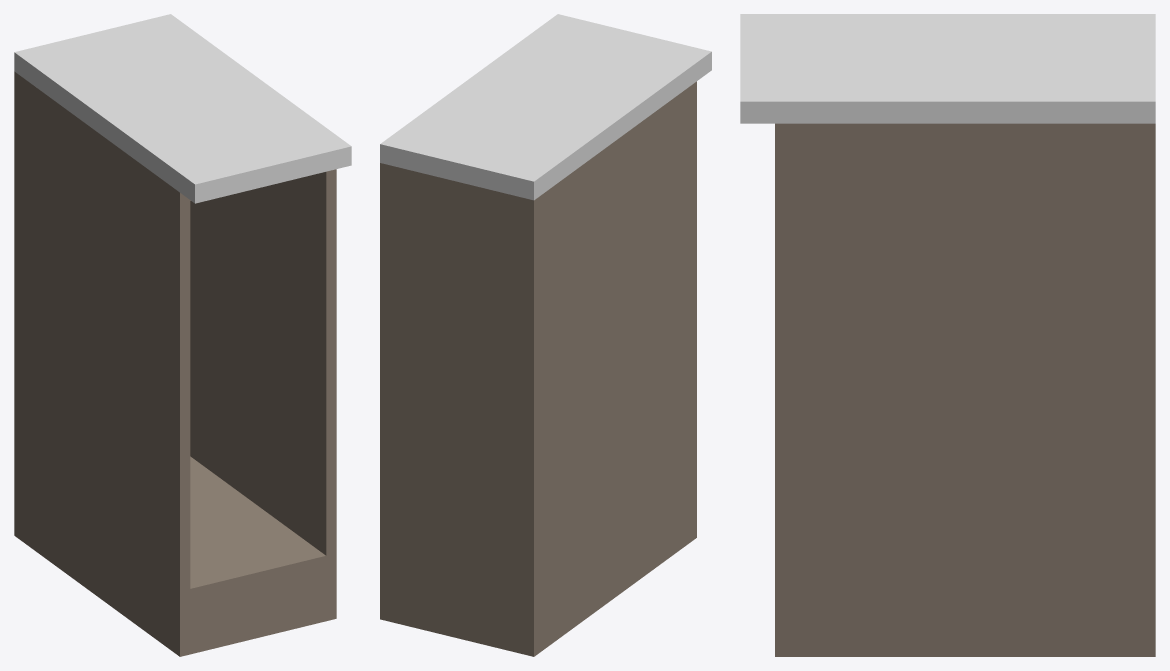
The model's file is Kitchen1_C5_03.fbx.
The picture shows the model from 3 angles, left to right: view 1: azimuth 30°, elevation 25°; view 2: azimuth 150°, elevation 25°; view 3: azimuth 270°, elevation 25°; orthographic projection. The views are drawn at different scales.
Parts seen in each view (by area): view 1: Kitchen1_C5_03; view 2: Kitchen1_C5_03; view 3: Kitchen1_C5_03.
Part boxes in pixels (x1=…): Kitchen1_C5_03: x1=14, y1=14, x2=351, y2=656; Kitchen1_C5_03: x1=380, y1=14, x2=711, y2=656; Kitchen1_C5_03: x1=740, y1=14, x2=1155, y2=656.
Bounding box in the file's own units: 30 × 88.5 × 60.
